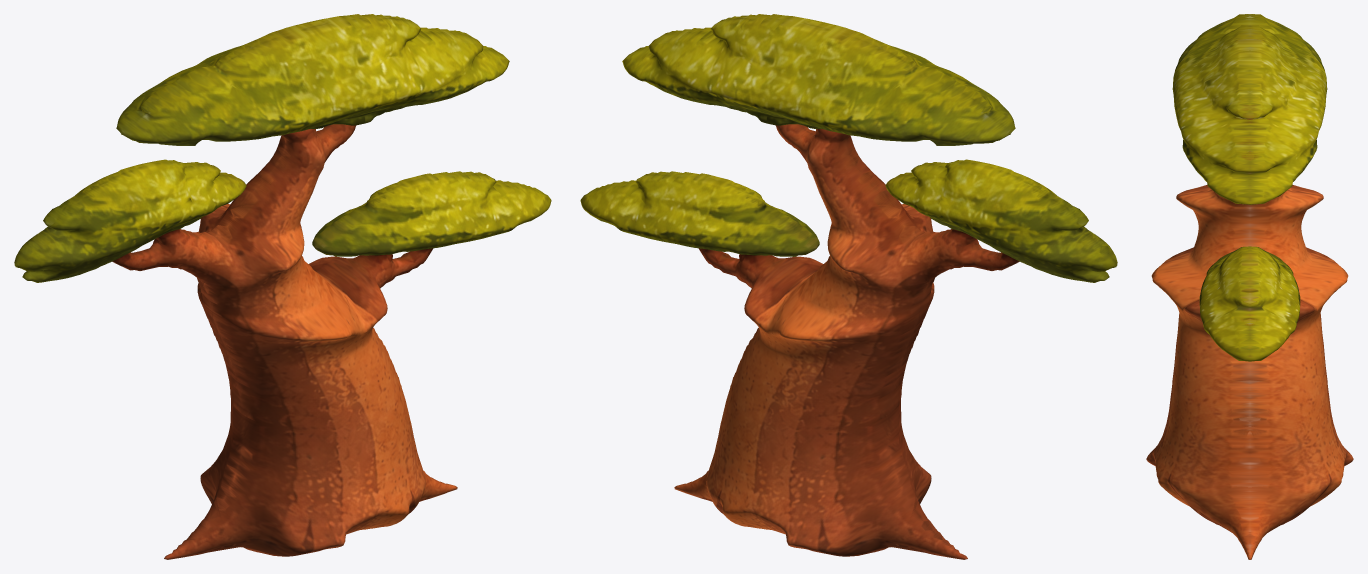
Rendered from 24_trees_c_r01_c01.glb.
3 views of the same model, side by side, from view 1: azimuth 30°, elevation 25°; view 2: azimuth 150°, elevation 25°; view 3: azimuth 270°, elevation 25° (orthographic). The views are drawn at different scales.
Parts seen in each view (by area): view 1: 24_trees_c_r01_c01; view 2: 24_trees_c_r01_c01; view 3: 24_trees_c_r01_c01.
Boxes of the visible parts, left/top/right/bottom form: 24_trees_c_r01_c01: left=14, top=14, right=551, bottom=559; 24_trees_c_r01_c01: left=580, top=14, right=1117, bottom=559; 24_trees_c_r01_c01: left=1146, top=14, right=1353, bottom=559.
Bounding box in the file's own units: 5.74 × 5.15 × 2.15.
1 material, 1 textured.
